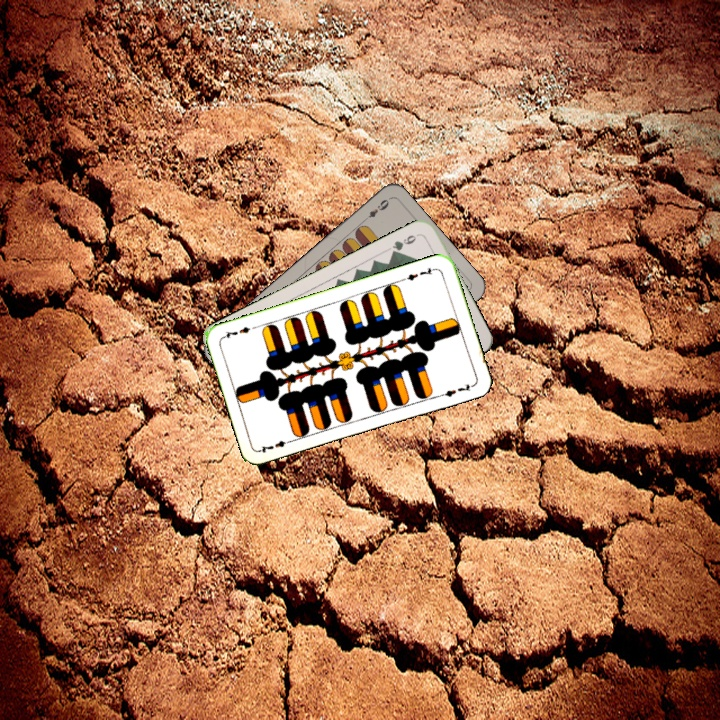E7: (256, 436, 296, 456), (400, 263, 439, 283)
E9: (359, 195, 392, 225)
G9: (387, 229, 423, 258)
